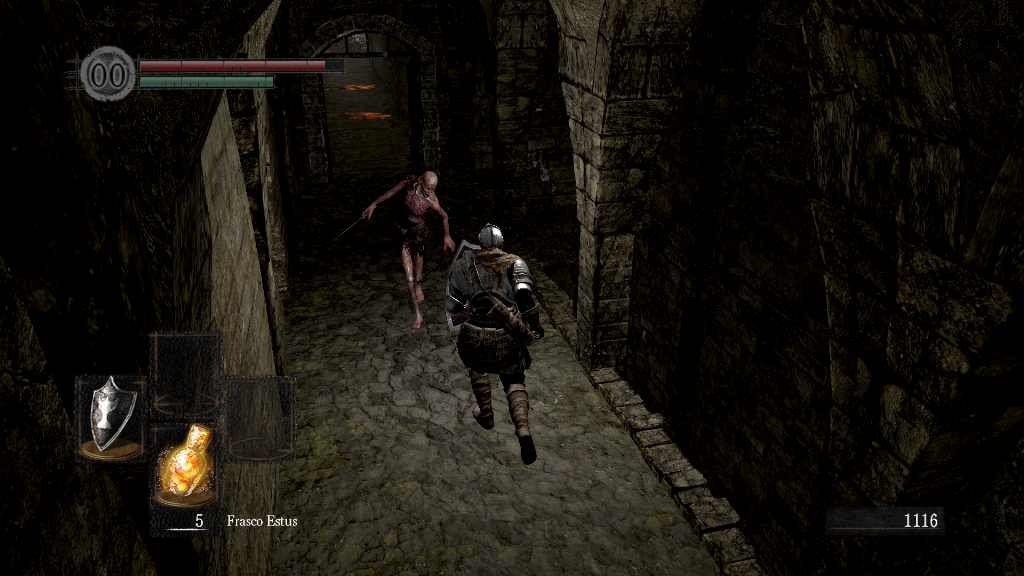health: (138, 58, 343, 71)
hollow: (366, 166, 457, 337)
humanity: (80, 45, 136, 102)
player: (442, 223, 548, 468)
souls: (825, 506, 945, 536)
stamina: (138, 74, 274, 88)
